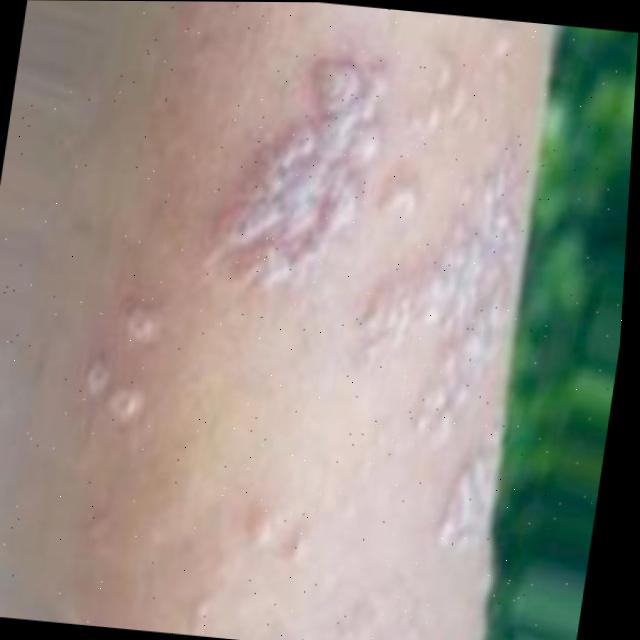Shingles: (171, 21, 558, 545), (78, 300, 168, 427)
